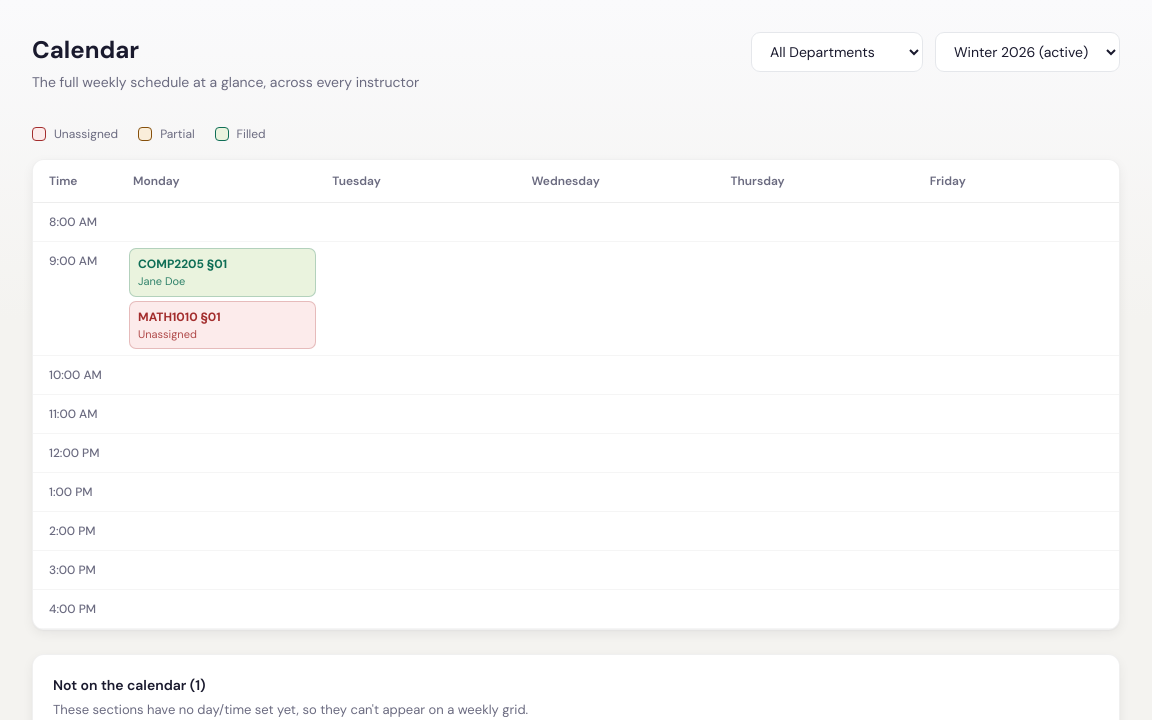
Scenario: AdminCalendar › filtering to "Uncategorized" shows only courses with no department set
Expected: the text "COMP2205 §01" is shown, top-left (138, 256), bottom-right (227, 272)
Select "Uncategorized" in the dropdown named "Filter by department": (837, 52) top-left (751, 32), bottom-right (923, 72)
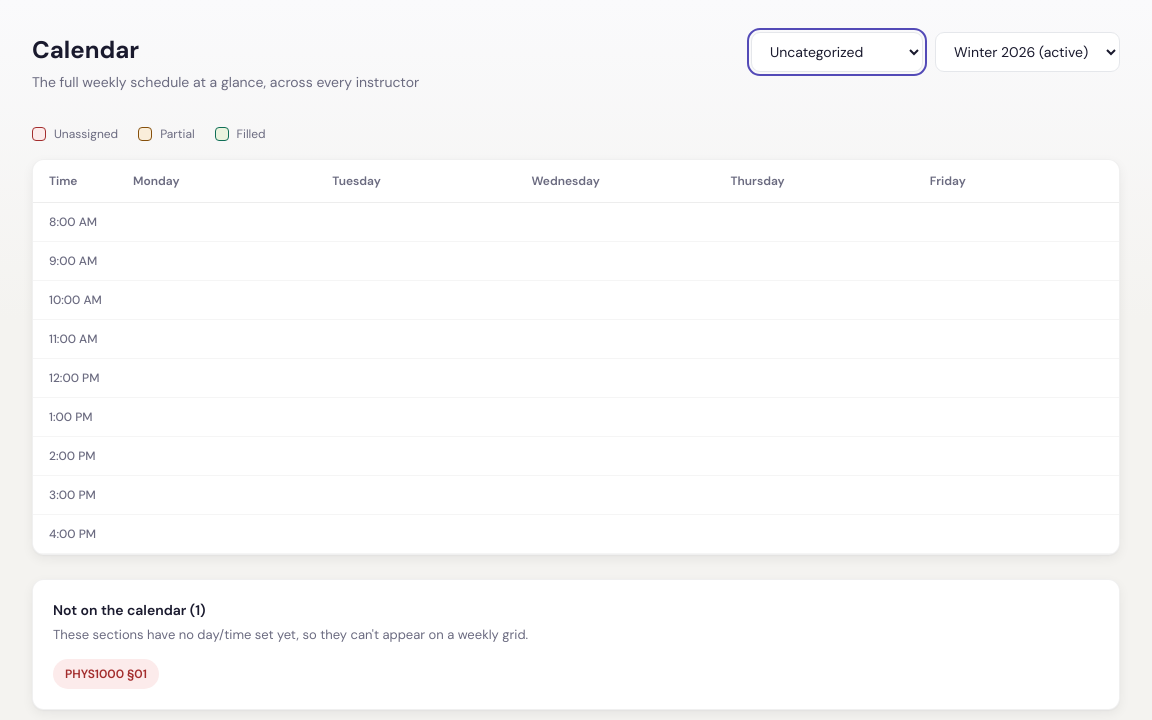
Expected: the text "Not on the calendar (1)" is shown, top-left (53, 601), bottom-right (206, 619)
Expected: the link "COMP2205 §01" is gone
